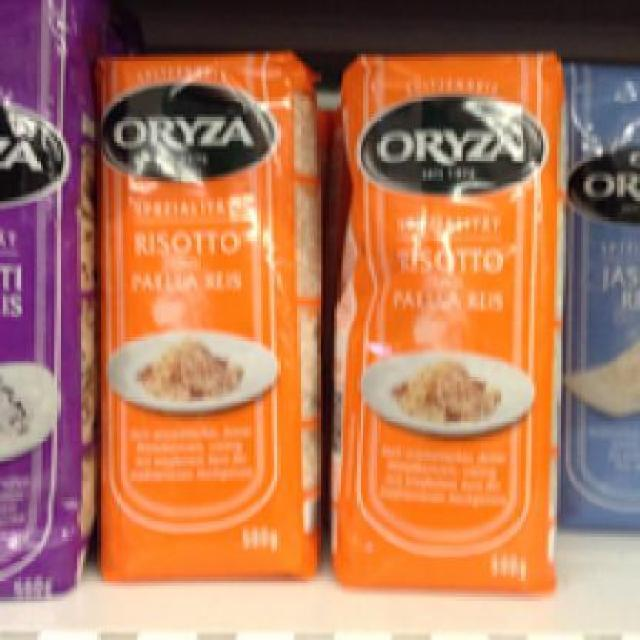Rice: (326, 49, 568, 592), (85, 42, 318, 578), (0, 0, 89, 597)
